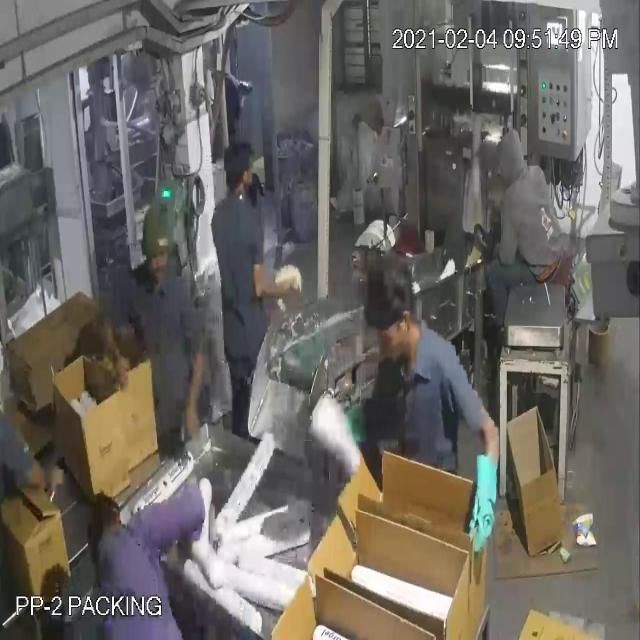No_Gloves: (40, 57, 484, 500)
